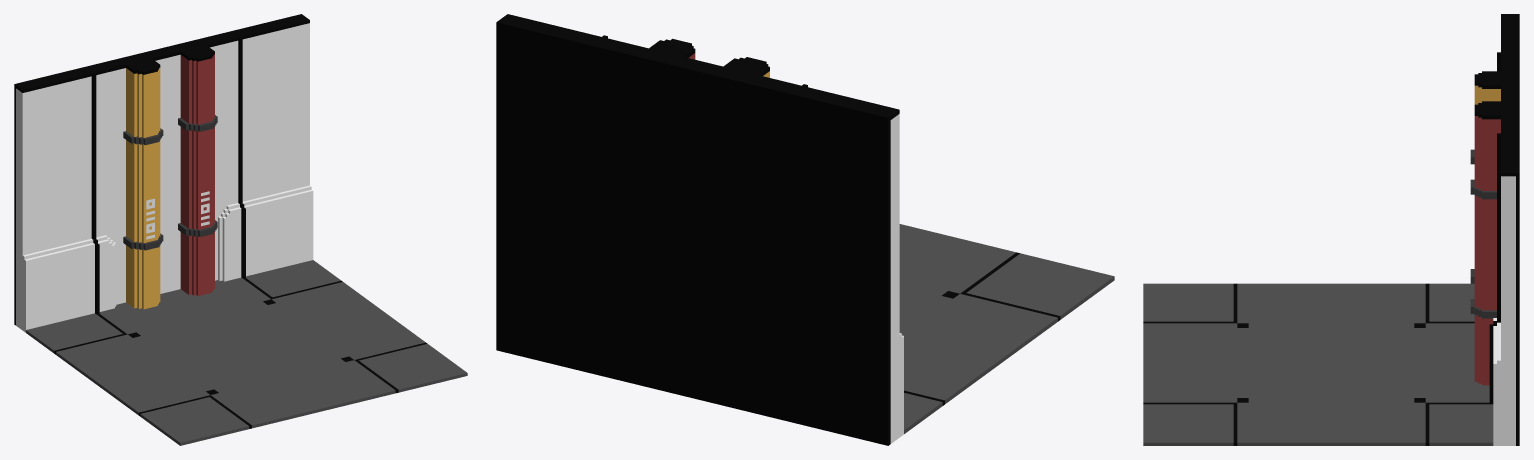
Rendered from Wall Pipes.obj.
The picture shows the model from 3 angles, left to right: view 1: azimuth 30°, elevation 25°; view 2: azimuth 150°, elevation 25°; view 3: azimuth 270°, elevation 25°; orthographic projection. The views are drawn at different scales.
Size of the model in its own units: 10 by 8 by 10.
